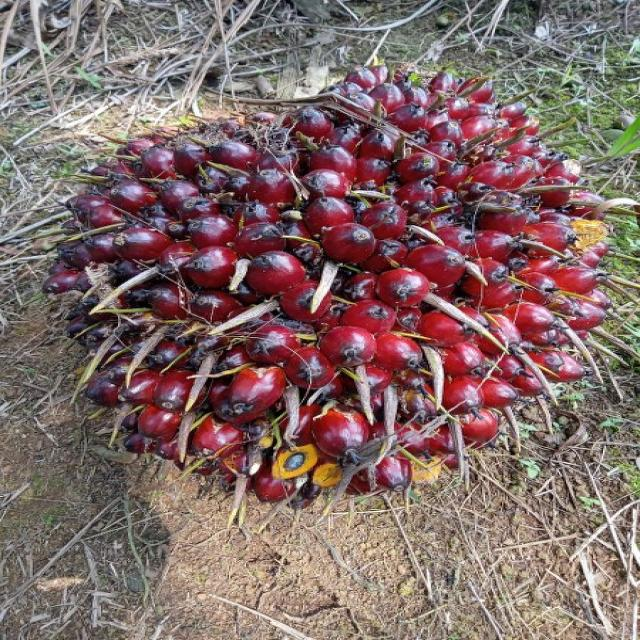fraksi 1: (55, 57, 610, 510)
